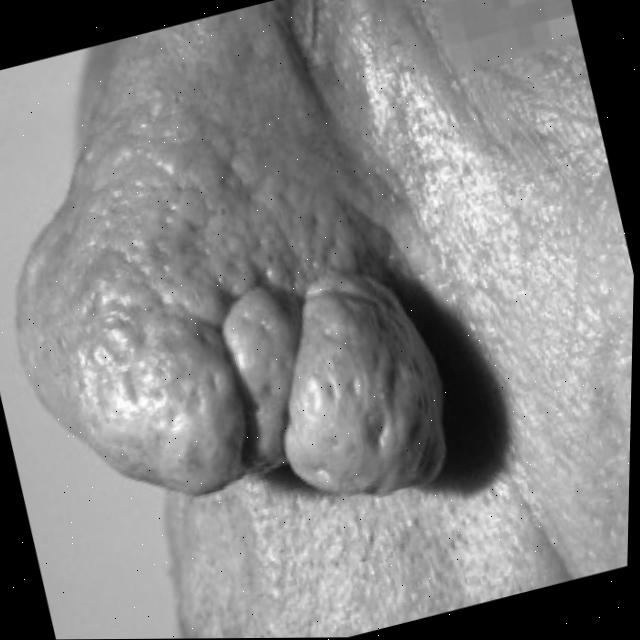Rosacea: (0, 22, 474, 573)
